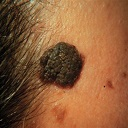Melanoma: (39, 43, 83, 90)
